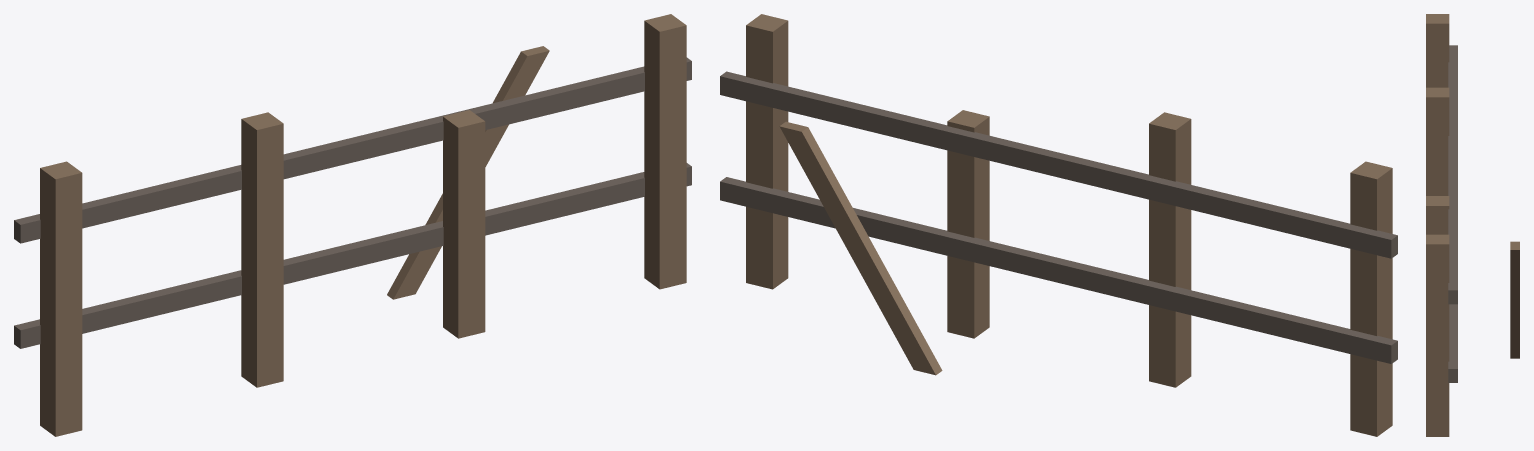
The model's file is fence.glb.
The picture shows the model from 3 angles, left to right: view 1: azimuth 30°, elevation 25°; view 2: azimuth 150°, elevation 25°; view 3: azimuth 270°, elevation 25°; orthographic projection. The views are drawn at different scales.
Visible parts, largest first — view 1: fence; view 2: fence; view 3: fence.
Part boxes in pixels (<box>): fence: <box>14,14,691,436</box>; fence: <box>720,14,1397,436</box>; fence: <box>1426,14,1519,436</box>.
Bounding box in the file's own units: 3 × 1.1 × 0.485.
